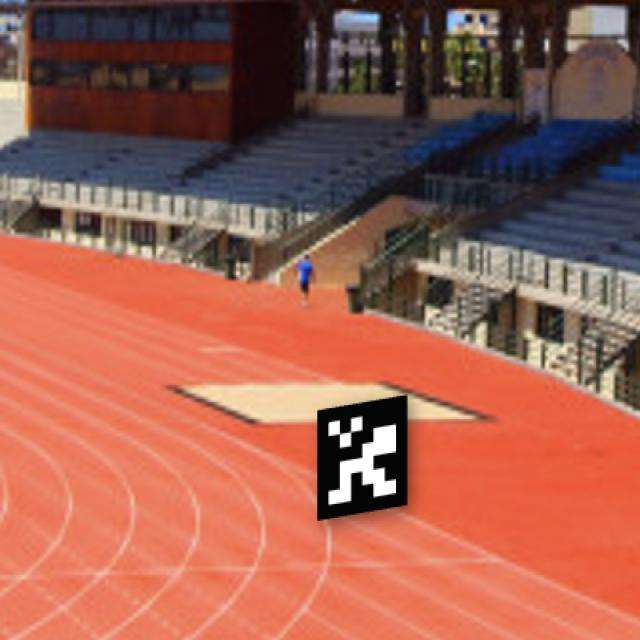marker: (305, 385, 424, 530)
